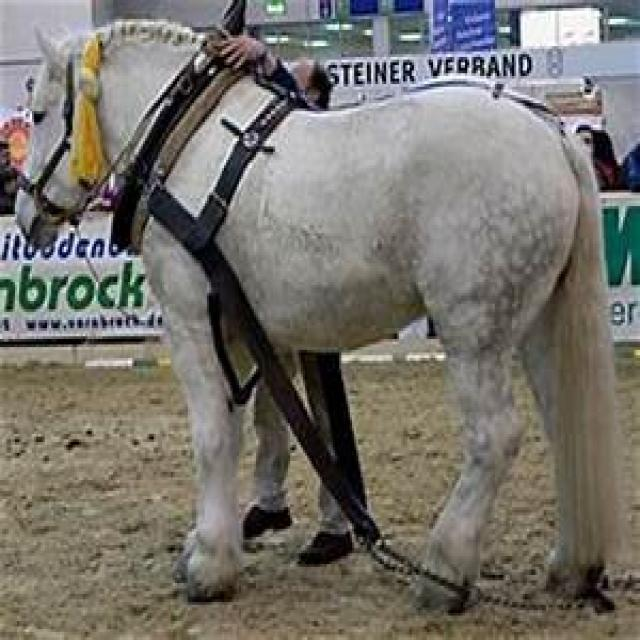horse: (16, 19, 615, 609)
